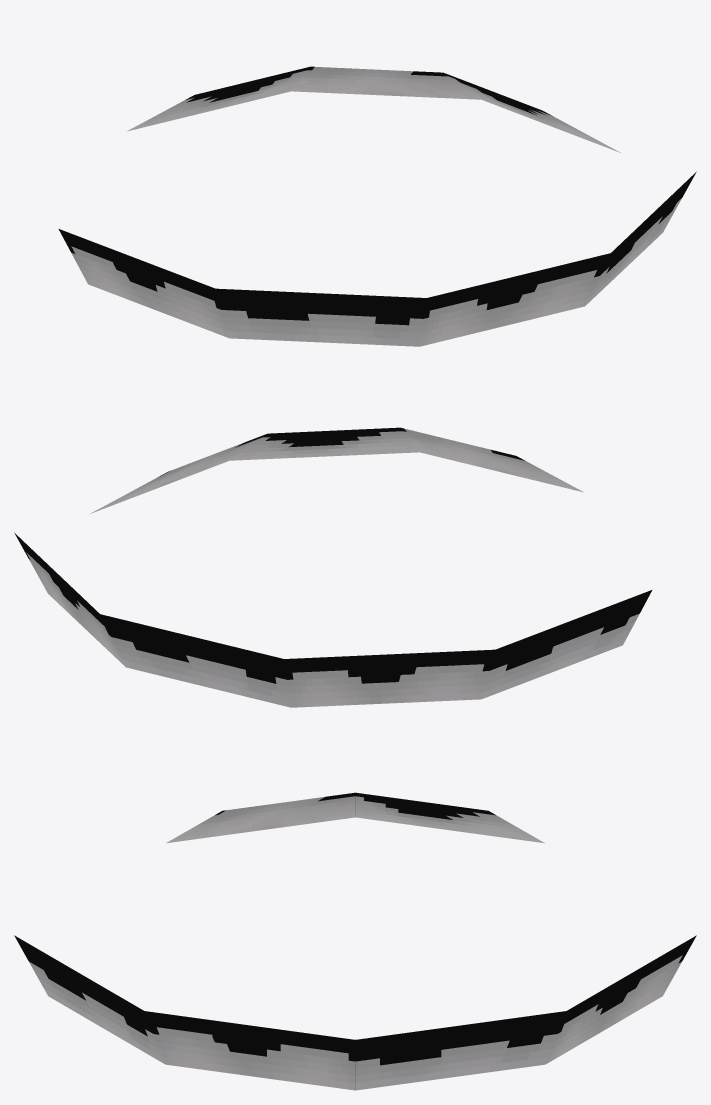
The model's file is 100_efe.gltf.
3 views of the same model, one above another, from view 1: azimuth 30°, elevation 25°; view 2: azimuth 150°, elevation 25°; view 3: azimuth 270°, elevation 25° (orthographic). The views are drawn at different scales.
Size of the model in its own units: 820 by 83 by 780.
1 material, 1 textured.
